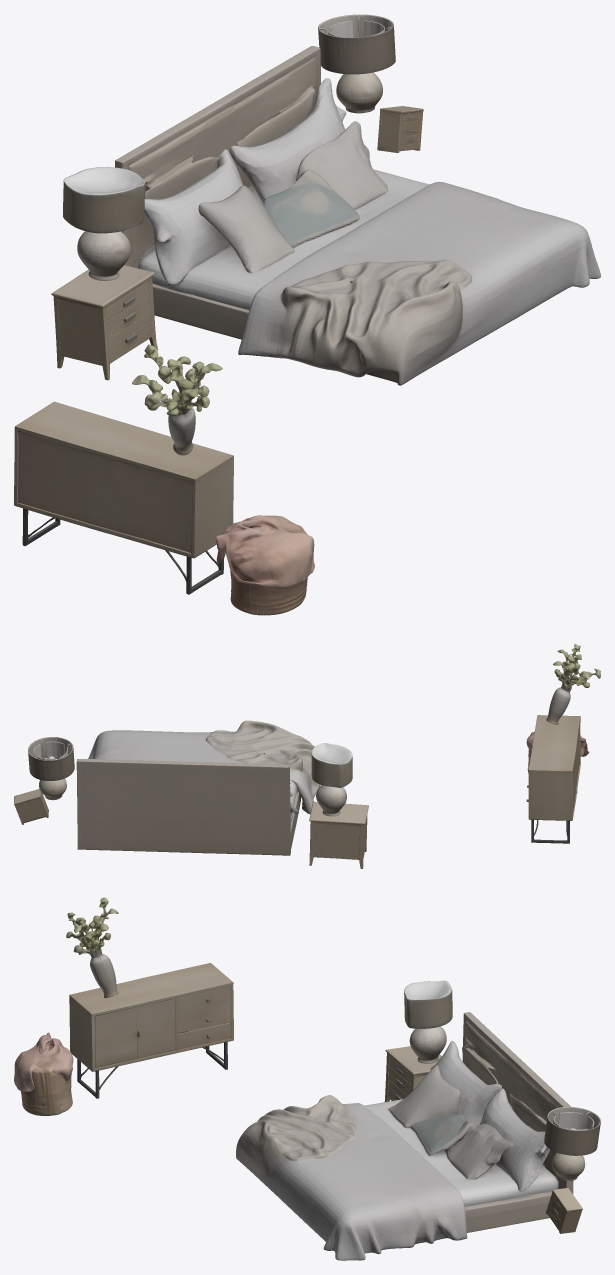
File: ours.glb
The picture shows the model from 3 angles, top to bottom: view 1: azimuth 30°, elevation 25°; view 2: azimuth 150°, elevation 25°; view 3: azimuth 270°, elevation 25°; orthographic projection. The views are drawn at different scales.
Parts seen in each view (by area): view 1: world; view 2: world; view 3: world.
Boxes of the visible parts, bbox=[...] form: world: bbox=[14, 14, 600, 615]; world: bbox=[14, 644, 600, 868]; world: bbox=[14, 897, 600, 1260].
Bounding box in the file's own units: 4.79 × 1.68 × 4.93.
